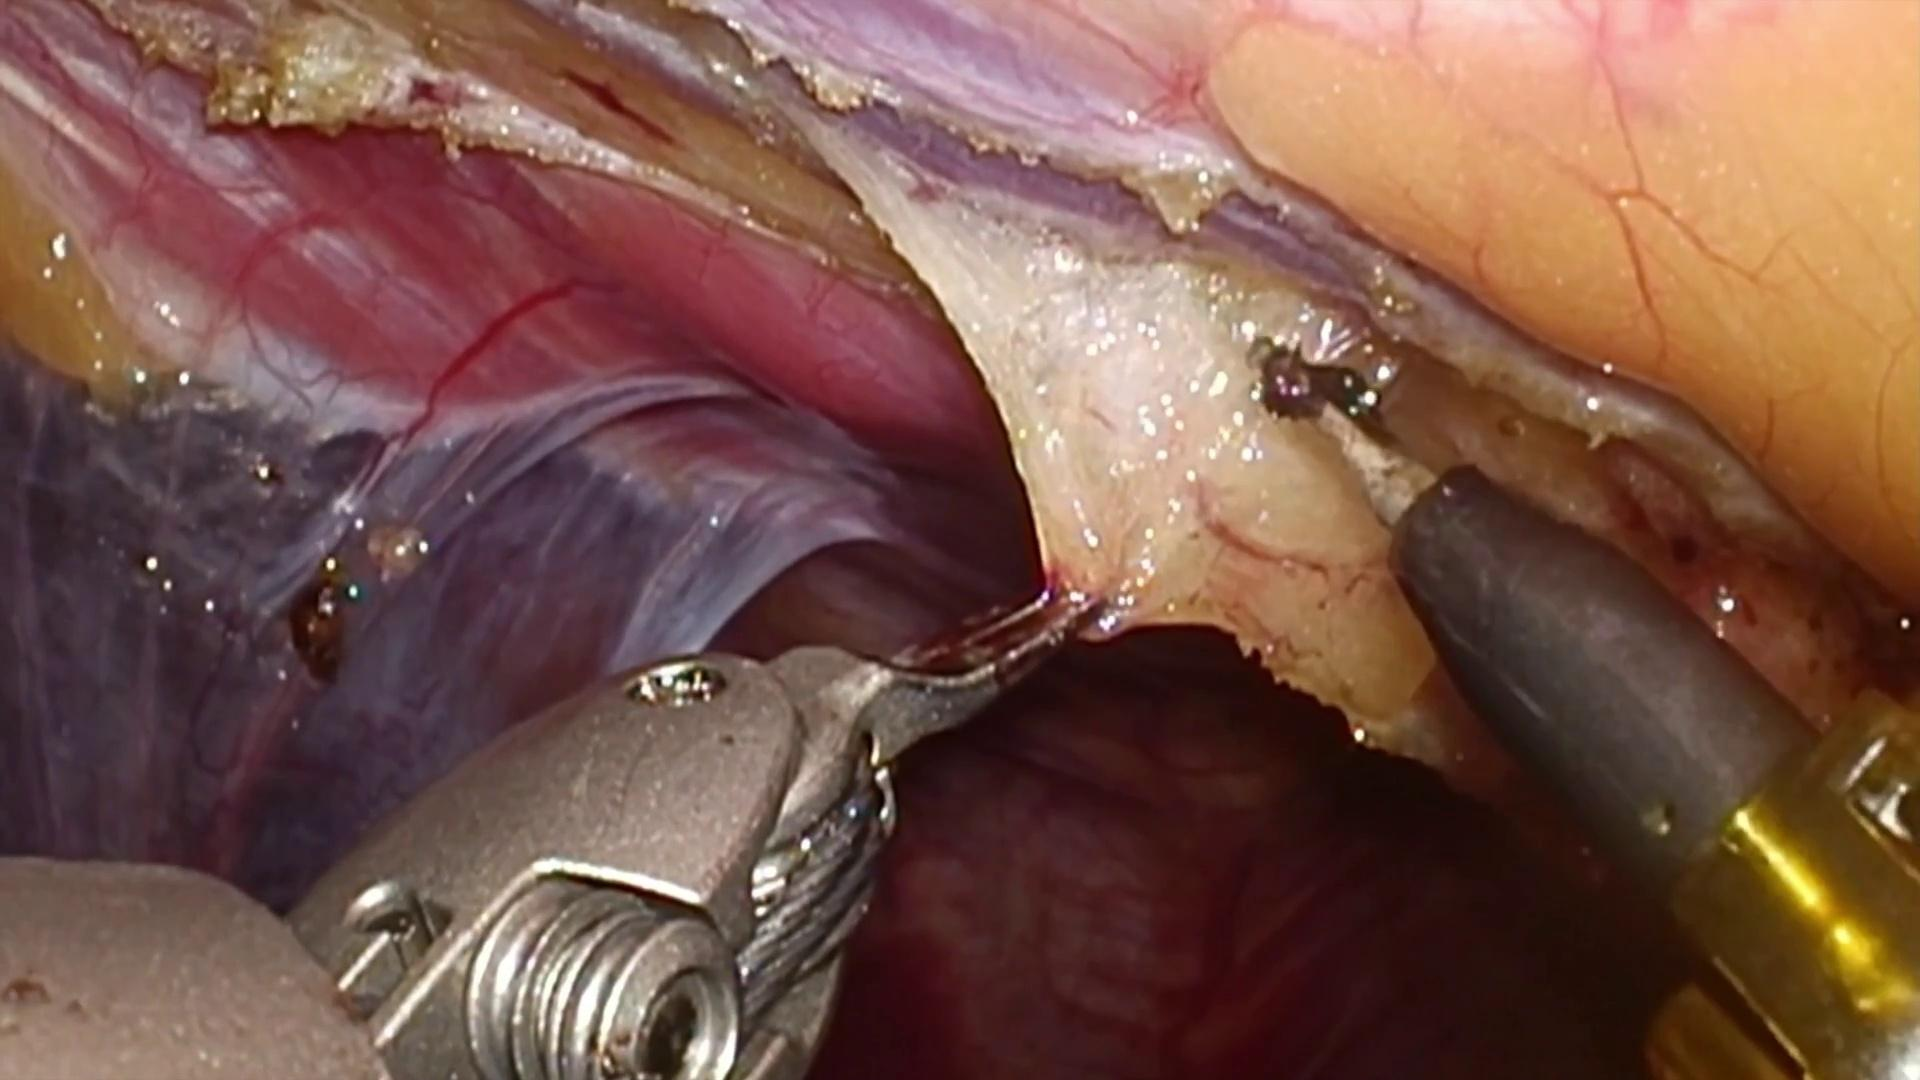Cautery_Spatula: (1266, 359, 1828, 891)
Debakey: (785, 587, 1110, 783)
